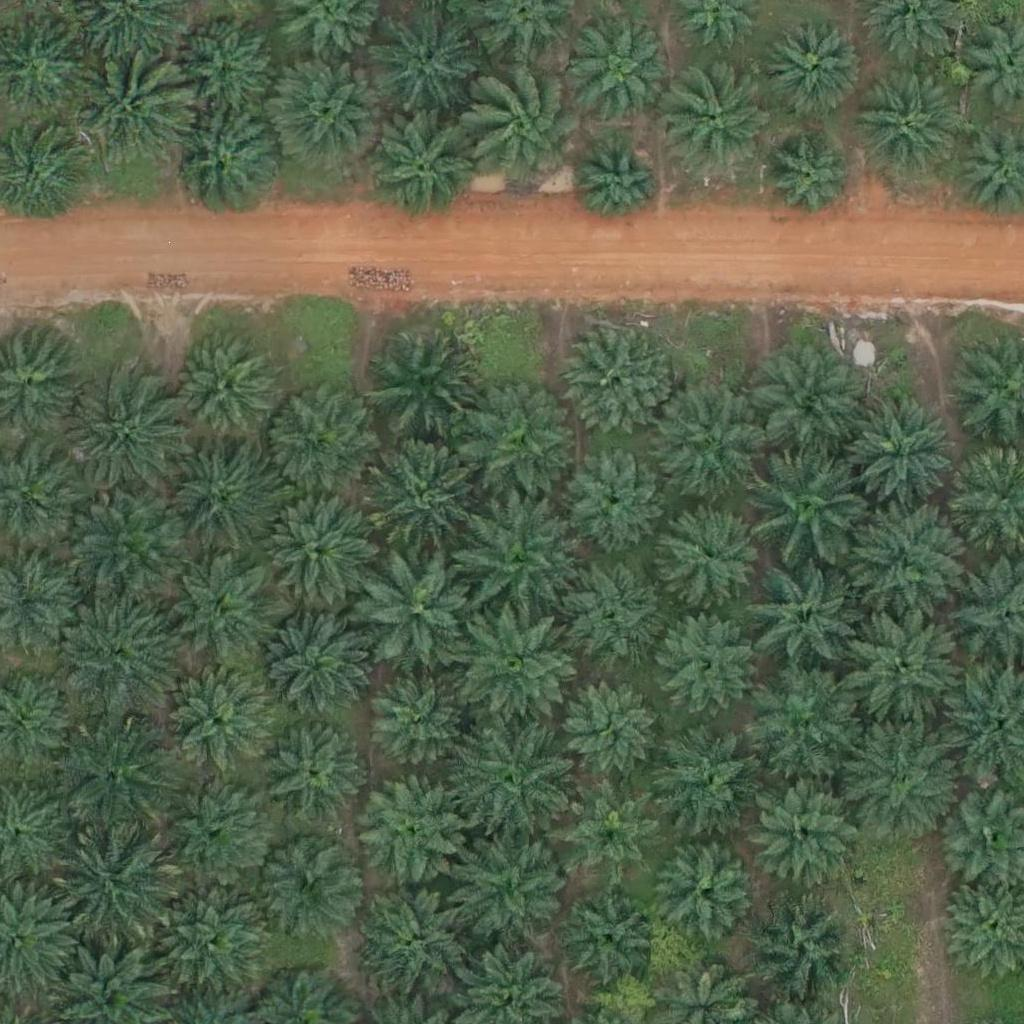Kelapa_Sawit: (464, 67, 589, 193), (848, 396, 961, 510), (848, 605, 961, 719), (747, 665, 860, 779), (464, 606, 577, 720), (361, 550, 474, 664), (169, 555, 282, 669), (844, 510, 957, 623), (841, 724, 954, 837), (754, 447, 867, 560), (652, 721, 765, 834), (561, 328, 674, 441), (459, 389, 572, 502), (358, 881, 471, 994), (350, 770, 463, 883), (262, 385, 375, 498), (263, 489, 376, 602), (256, 721, 369, 834), (251, 829, 364, 942), (149, 887, 262, 1000), (160, 444, 273, 557), (74, 490, 187, 603), (54, 594, 167, 707), (368, 5, 481, 118), (364, 112, 477, 225), (658, 385, 770, 499), (459, 835, 571, 949), (167, 663, 279, 777), (850, 68, 962, 182), (754, 785, 866, 898), (748, 560, 860, 673), (752, 348, 864, 461), (742, 888, 854, 1001), (552, 556, 664, 669), (462, 504, 574, 617), (458, 724, 570, 837), (371, 325, 483, 438), (364, 436, 476, 549), (257, 614, 369, 727), (160, 775, 272, 888), (68, 378, 180, 491), (61, 718, 173, 831), (62, 831, 174, 944), (665, 64, 777, 177), (273, 60, 385, 173), (167, 106, 279, 219), (72, 54, 184, 167), (660, 501, 760, 602), (660, 847, 760, 948), (563, 882, 663, 983), (557, 674, 657, 775), (562, 442, 662, 543), (170, 338, 270, 439), (766, 16, 866, 117), (659, 612, 759, 712), (562, 781, 662, 881), (366, 670, 466, 770), (573, 24, 673, 124), (180, 9, 280, 109), (767, 139, 855, 227), (574, 139, 661, 227)
